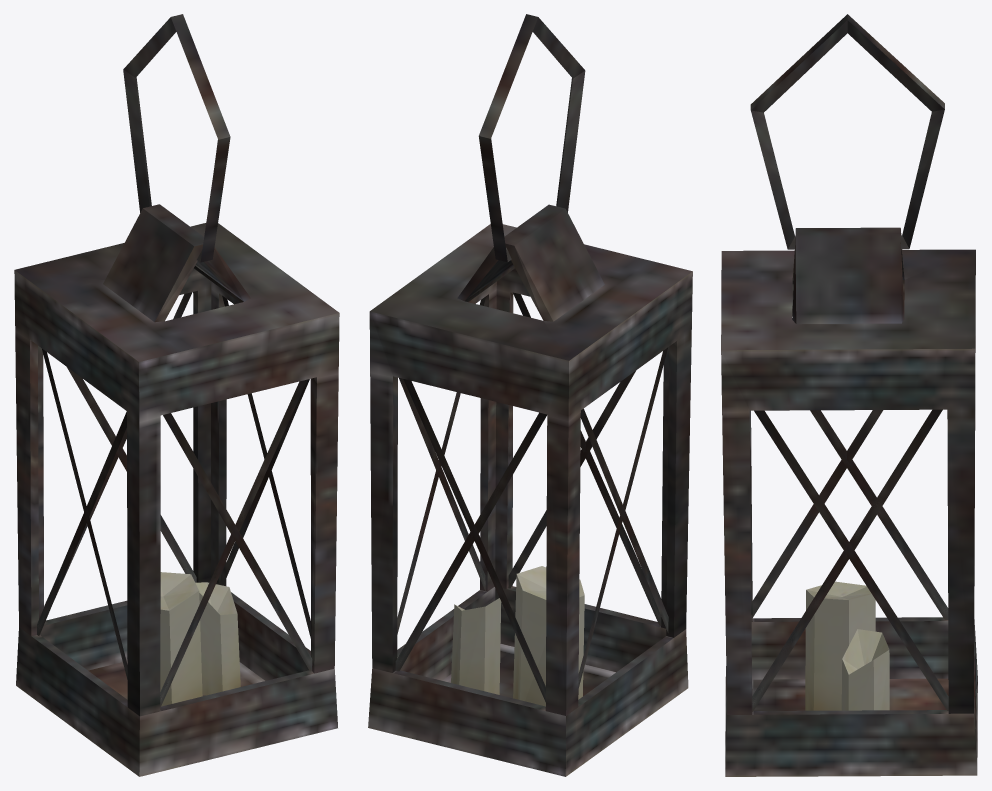
File: d_sg_shouyou_deng01_qt.FBX
The picture shows the model from 3 angles, left to right: view 1: azimuth 30°, elevation 25°; view 2: azimuth 150°, elevation 25°; view 3: azimuth 270°, elevation 25°; orthographic projection. The views are drawn at different scales.
Parts seen in each view (by area): view 1: Object001; view 2: Object001; view 3: Object001.
Boxes of the visible parts, <box> form: Object001: <box>14,14,339,776</box>; Object001: <box>368,14,692,776</box>; Object001: <box>721,14,977,776</box>.
Size of the model in its own units: 0.2189 by 0.7238 by 0.2367.
